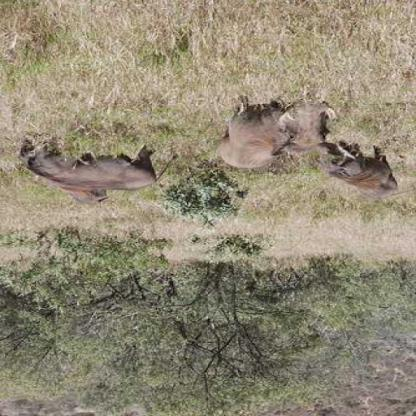boar: (22, 118, 161, 216), (225, 76, 336, 167), (327, 144, 407, 189)
